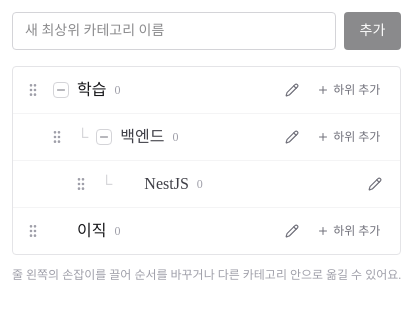
Scenario: CategoryManager › 추가에 실패하면 안내 문구를 보여준다
Check: the text "학습" is shown, box [77, 78, 106, 102]
Type "독서" into the field labelled "새 최상위 카테고리 이름". click: (174, 31)
box: [12, 12, 336, 50]
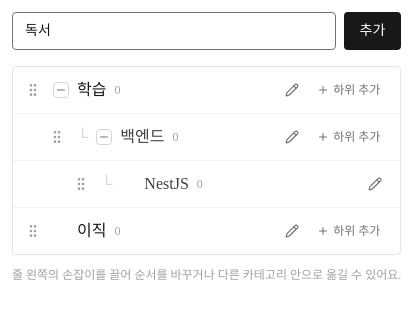
Click the button "추가". click: click(372, 31)
box: [344, 12, 401, 50]
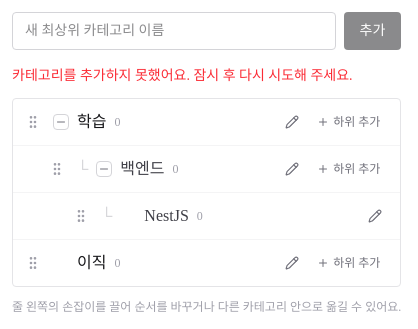
Check: the message shows "추가하지 못했어요", box [12, 68, 353, 83]
